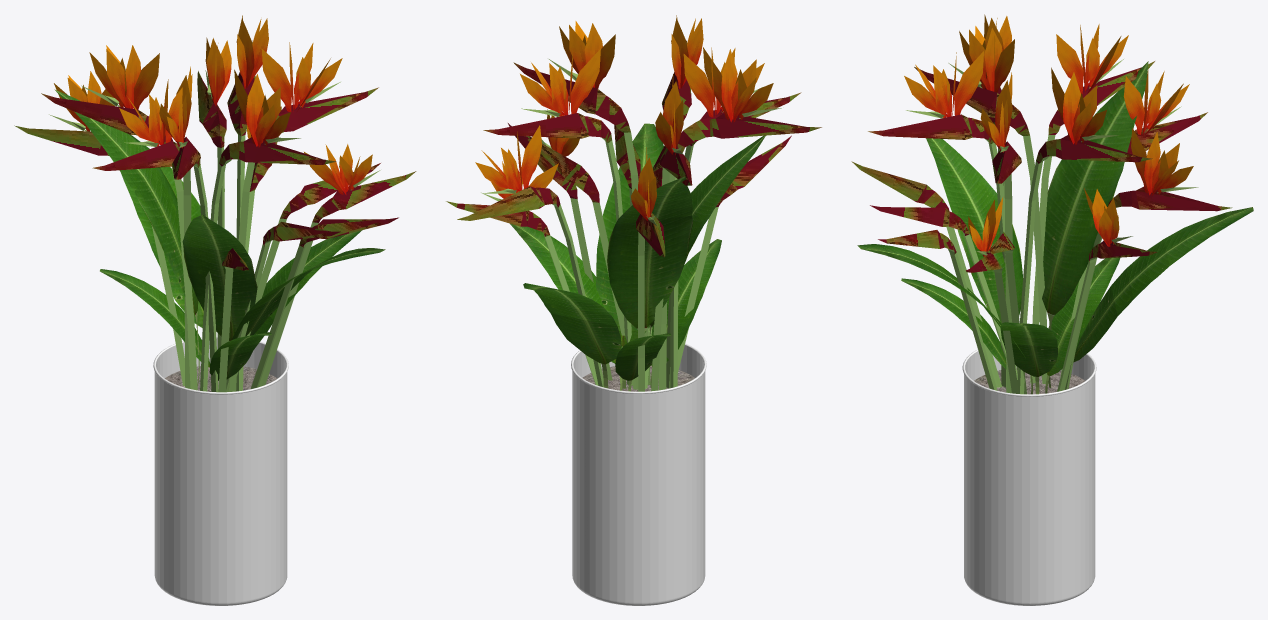
The model's file is rth.glb.
3 renders of one model, left to right at view 1: azimuth 30°, elevation 25°; view 2: azimuth 150°, elevation 25°; view 3: azimuth 270°, elevation 25°, orthographic.
Visible parts, largest first — view 1: mesh_108_ROOT__Component_14407__vaso#1__ESPADA+S_O+JORGE#1_L, mesh_113_ROOT__Component_14407__Component_14399__Component_1, mesh_111_ROOT__Component_14407__Component_14399__Component_1, mesh_54_ROOT__Component_14407__birdofparadise#2_Layer0_116_8, mesh_56_ROOT__Component_14407__birdofparadise#2_Layer0_76_14, mesh_0_ROOT__Component_14407__birdofparadise#1_Layer0_116_80, mesh_2_ROOT__Component_14407__birdofparadise#1_Layer0_76_142, mesh_117_ROOT__Component_14407__Component_14399__Component_1, mesh_45_ROOT__Component_14407__birdofparadise#1__Component_1, mesh_119_ROOT__Component_14407__Component_14399__Component_1, mesh_123_ROOT__Component_14407__Component_14399__Component_1, mesh_121_ROOT__Component_14407__Component_14399__Component_1 (+23 smaller); view 2: mesh_108_ROOT__Component_14407__vaso#1__ESPADA+S_O+JORGE#1_L, mesh_111_ROOT__Component_14407__Component_14399__Component_1, mesh_121_ROOT__Component_14407__Component_14399__Component_1, mesh_123_ROOT__Component_14407__Component_14399__Component_1, mesh_0_ROOT__Component_14407__birdofparadise#1_Layer0_116_80, mesh_113_ROOT__Component_14407__Component_14399__Component_1, mesh_117_ROOT__Component_14407__Component_14399__Component_1, mesh_34_ROOT__Component_14407__birdofparadise#1__Component_1, mesh_115_ROOT__Component_14407__Component_14399__Component_1, mesh_54_ROOT__Component_14407__birdofparadise#2_Layer0_116_8, mesh_56_ROOT__Component_14407__birdofparadise#2_Layer0_76_14, mesh_11_ROOT__Component_14407__birdofparadise#1__Component_1 (+23 smaller); view 3: mesh_108_ROOT__Component_14407__vaso#1__ESPADA+S_O+JORGE#1_L, mesh_111_ROOT__Component_14407__Component_14399__Component_1, mesh_113_ROOT__Component_14407__Component_14399__Component_1, mesh_121_ROOT__Component_14407__Component_14399__Component_1, mesh_54_ROOT__Component_14407__birdofparadise#2_Layer0_116_8, mesh_2_ROOT__Component_14407__birdofparadise#1_Layer0_76_142, mesh_56_ROOT__Component_14407__birdofparadise#2_Layer0_76_14, mesh_119_ROOT__Component_14407__Component_14399__Component_1, mesh_117_ROOT__Component_14407__Component_14399__Component_1, mesh_0_ROOT__Component_14407__birdofparadise#1_Layer0_116_80, mesh_45_ROOT__Component_14407__birdofparadise#1__Component_1, mesh_34_ROOT__Component_14407__birdofparadise#1__Component_1 (+19 smaller).
Boxes of the visible parts, box(x1,y1,x2,y2) form: mesh_108_ROOT__Component_14407__vaso#1__ESPADA+S_O+JORGE#1_L: box(153, 336, 288, 605); mesh_113_ROOT__Component_14407__Component_14399__Component_1: box(182, 214, 257, 341); mesh_111_ROOT__Component_14407__Component_14399__Component_1: box(54, 89, 198, 315); mesh_54_ROOT__Component_14407__birdofparadise#2_Layer0_116_8: box(222, 171, 416, 270); mesh_56_ROOT__Component_14407__birdofparadise#2_Layer0_76_14: box(218, 222, 318, 392); mesh_0_ROOT__Component_14407__birdofparadise#1_Layer0_116_80: box(249, 137, 398, 247); mesh_2_ROOT__Component_14407__birdofparadise#1_Layer0_76_142: box(237, 190, 306, 388); mesh_117_ROOT__Component_14407__Component_14399__Component_1: box(254, 230, 362, 345); mesh_45_ROOT__Component_14407__birdofparadise#1__Component_1: box(219, 137, 336, 166); mesh_119_ROOT__Component_14407__Component_14399__Component_1: box(100, 269, 210, 367); mesh_123_ROOT__Component_14407__Component_14399__Component_1: box(232, 248, 385, 339); mesh_121_ROOT__Component_14407__Component_14399__Component_1: box(121, 134, 203, 327); mesh_108_ROOT__Component_14407__vaso#1__ESPADA+S_O+JORGE#1_L: box(571, 343, 706, 605); mesh_111_ROOT__Component_14407__Component_14399__Component_1: box(607, 176, 692, 329); mesh_121_ROOT__Component_14407__Component_14399__Component_1: box(523, 283, 621, 364); mesh_123_ROOT__Component_14407__Component_14399__Component_1: box(596, 123, 663, 346); mesh_0_ROOT__Component_14407__birdofparadise#1_Layer0_116_80: box(446, 125, 640, 236); mesh_113_ROOT__Component_14407__Component_14399__Component_1: box(650, 135, 765, 327); mesh_117_ROOT__Component_14407__Component_14399__Component_1: box(510, 223, 621, 363); mesh_34_ROOT__Component_14407__birdofparadise#1__Component_1: box(483, 113, 611, 142); mesh_115_ROOT__Component_14407__Component_14399__Component_1: box(651, 239, 721, 366); mesh_54_ROOT__Component_14407__birdofparadise#2_Layer0_116_8: box(508, 123, 791, 207); mesh_56_ROOT__Component_14407__birdofparadise#2_Layer0_76_14: box(570, 198, 718, 388); mesh_11_ROOT__Component_14407__birdofparadise#1__Component_1: box(690, 113, 821, 145); mesh_108_ROOT__Component_14407__vaso#1__ESPADA+S_O+JORGE#1_L: box(962, 349, 1096, 605); mesh_111_ROOT__Component_14407__Component_14399__Component_1: box(1042, 61, 1148, 315); mesh_113_ROOT__Component_14407__Component_14399__Component_1: box(926, 138, 1022, 323); mesh_121_ROOT__Component_14407__Component_14399__Component_1: box(1073, 207, 1253, 362); mesh_54_ROOT__Component_14407__birdofparadise#2_Layer0_116_8: box(851, 161, 1001, 272); mesh_2_ROOT__Component_14407__birdofparadise#1_Layer0_76_142: box(947, 248, 1097, 394); mesh_56_ROOT__Component_14407__birdofparadise#2_Layer0_76_14: box(946, 226, 1018, 393); mesh_119_ROOT__Component_14407__Component_14399__Component_1: box(1047, 257, 1120, 375); mesh_117_ROOT__Component_14407__Component_14399__Component_1: box(1000, 322, 1057, 376); mesh_0_ROOT__Component_14407__birdofparadise#1_Layer0_116_80: box(878, 230, 1157, 262); mesh_45_ROOT__Component_14407__birdofparadise#1__Component_1: box(868, 114, 993, 144); mesh_34_ROOT__Component_14407__birdofparadise#1__Component_1: box(1036, 135, 1152, 163).
Size of the model in its own units: 406 by 649 by 447.
10 materials, 4 textured.
